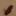cockroach: (4, 4, 14, 16)
